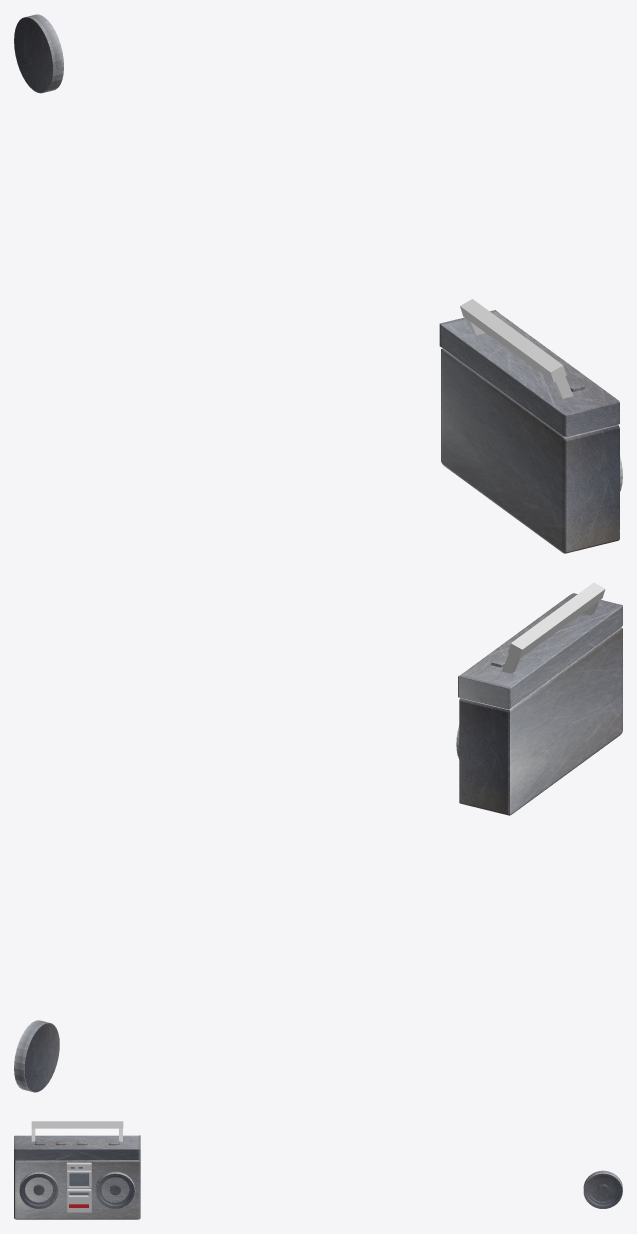
File: RADIO.fbx
3 renders of one model, top to bottom at view 1: azimuth 30°, elevation 25°; view 2: azimuth 150°, elevation 25°; view 3: azimuth 270°, elevation 25°, orthographic. The views are drawn at different scales.
Parts seen in each view (by area): view 1: Cube, Cube.001, Cylinder.001, Cube.006; view 2: Cube, Cube.001, Cylinder.001, Cube.006; view 3: Cube, Cube.001, Cylinder, Cylinder.001, Cube.006, Cube.003, Cube.002, Cube.004.
Part boxes in pixels (x1,y1,x2,y2): Cube: [441, 348, 619, 553]; Cube.001: [439, 310, 619, 436]; Cylinder.001: [14, 14, 63, 93]; Cube.006: [460, 299, 566, 382]; Cube: [459, 627, 622, 815]; Cube.001: [458, 593, 622, 709]; Cylinder.001: [14, 1020, 59, 1092]; Cube.006: [508, 582, 605, 659]; Cube: [14, 1160, 140, 1219]; Cube.001: [14, 1135, 140, 1160]; Cylinder: [19, 1171, 135, 1208]; Cylinder.001: [583, 1170, 622, 1208]; Cube.006: [31, 1121, 123, 1128]; Cube.003: [66, 1189, 91, 1212]; Cube.002: [66, 1170, 91, 1188]; Cube.004: [66, 1162, 91, 1170].
Bounding box in the file's own units: 34.07 × 89.37 × 562.
13 materials, 7 textured.
